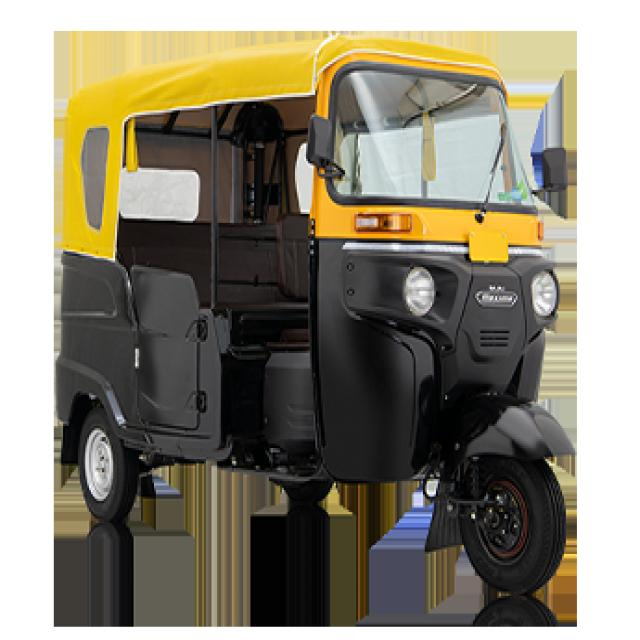autorickshaw: (56, 36, 572, 593)
